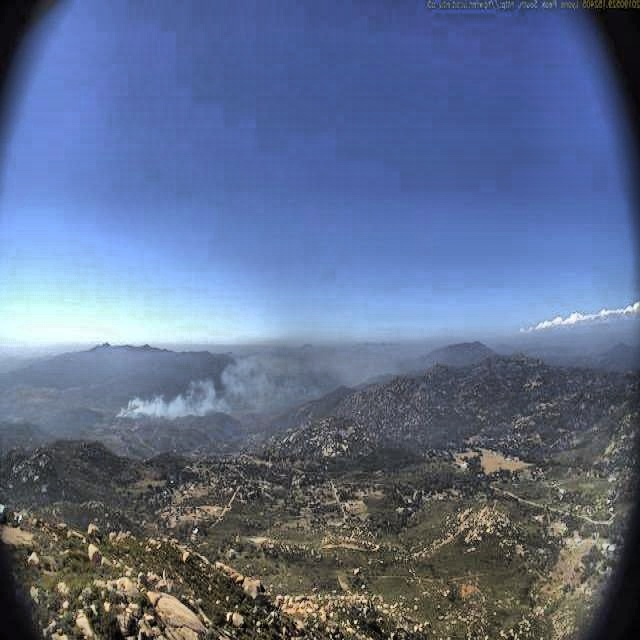smoke: (117, 341, 385, 424)
